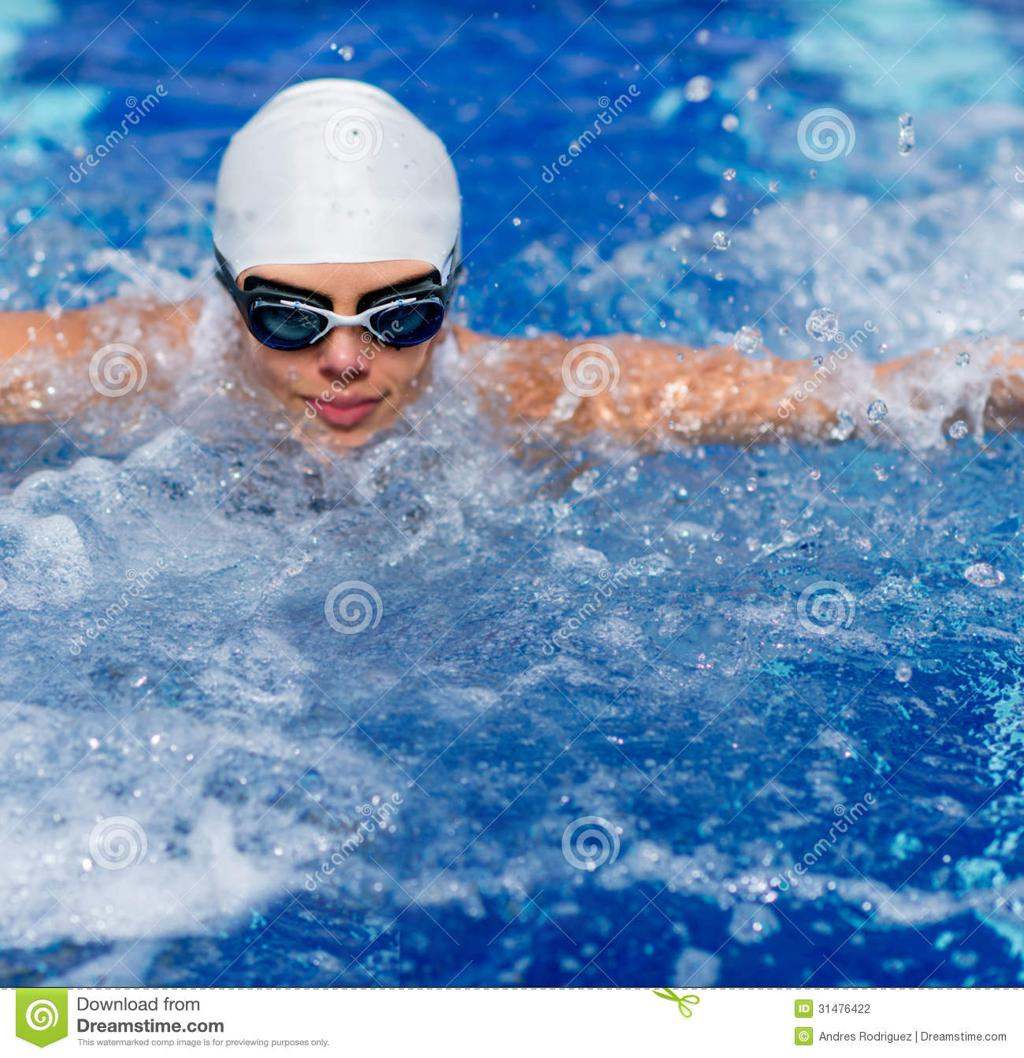face: (239, 250, 427, 454)
